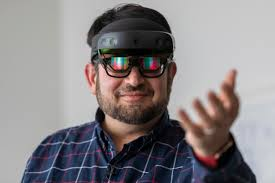hololens: (91, 32, 176, 80)
